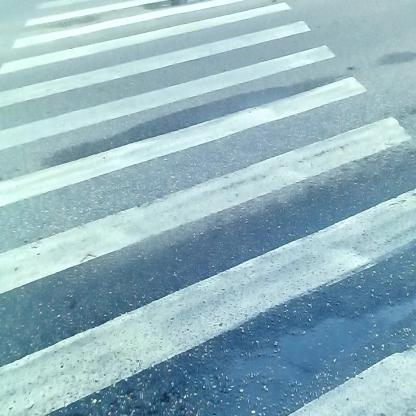crosswalk: (5, 16, 411, 416)
